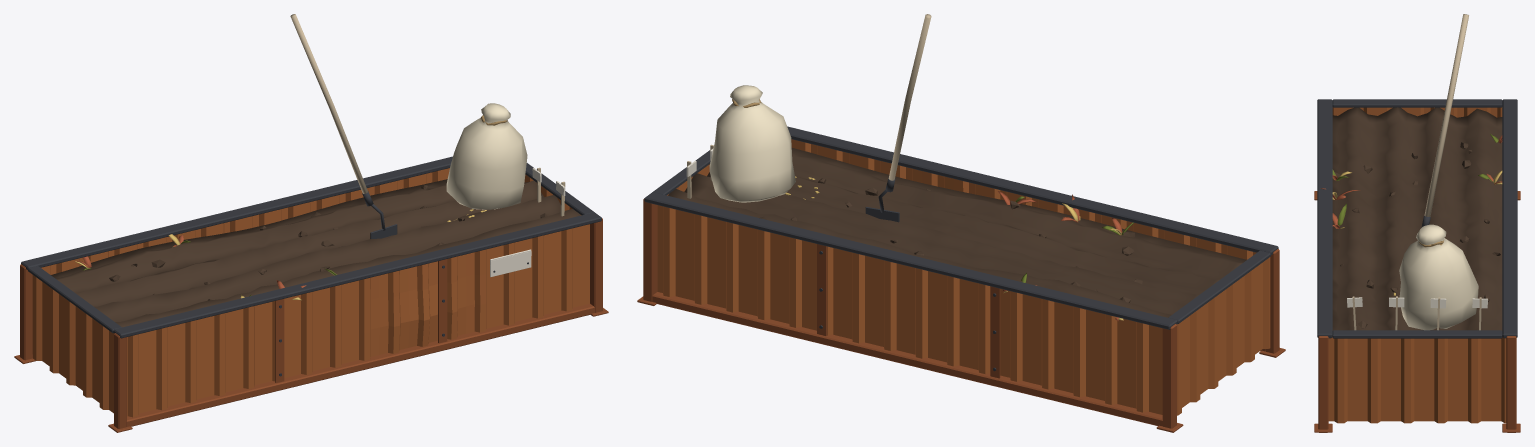
The model's file is deco_farm_bed_fallow.fbx.
3 renders of one model, left to right at view 1: azimuth 30°, elevation 25°; view 2: azimuth 150°, elevation 25°; view 3: azimuth 270°, elevation 25°, orthographic. The views are drawn at different scales.
Visible parts, largest first — view 1: FarmBed_Fallow_Frame, FarmBed_Fallow_Soil, FarmBed_Fallow_SeedSack, FarmBed_Fallow_Hoe, FarmBed_Fallow_Tags; view 2: FarmBed_Fallow_Frame, FarmBed_Fallow_Soil, FarmBed_Fallow_SeedSack, FarmBed_Fallow_Hoe, FarmBed_Fallow_Weeds; view 3: FarmBed_Fallow_Soil, FarmBed_Fallow_Frame, FarmBed_Fallow_SeedSack, FarmBed_Fallow_Hoe, FarmBed_Fallow_Tags, FarmBed_Fallow_Weeds.
Boxes of the visible parts, left/top/right/bottom form: FarmBed_Fallow_Frame: left=14, top=156, right=608, bottom=432; FarmBed_Fallow_Soil: left=51, top=179, right=580, bottom=327; FarmBed_Fallow_SeedSack: left=446, top=103, right=527, bottom=222; FarmBed_Fallow_Hoe: left=290, top=14, right=397, bottom=238; FarmBed_Fallow_Tags: left=490, top=167, right=565, bottom=276; FarmBed_Fallow_Frame: left=637, top=126, right=1285, bottom=432; FarmBed_Fallow_Soil: left=668, top=148, right=1246, bottom=317; FarmBed_Fallow_SeedSack: left=709, top=85, right=819, bottom=202; FarmBed_Fallow_Hoe: left=865, top=14, right=931, bottom=222; FarmBed_Fallow_Weeds: left=997, top=191, right=1133, bottom=321; FarmBed_Fallow_Soil: left=1332, top=107, right=1502, bottom=330; FarmBed_Fallow_Frame: left=1314, top=99, right=1520, bottom=432; FarmBed_Fallow_SeedSack: left=1393, top=224, right=1478, bottom=330; FarmBed_Fallow_Hoe: left=1421, top=14, right=1468, bottom=227; FarmBed_Fallow_Tags: left=1347, top=296, right=1487, bottom=330; FarmBed_Fallow_Weeds: left=1320, top=133, right=1502, bottom=228.
Bounding box in the file's own units: 408 × 241 × 148.
